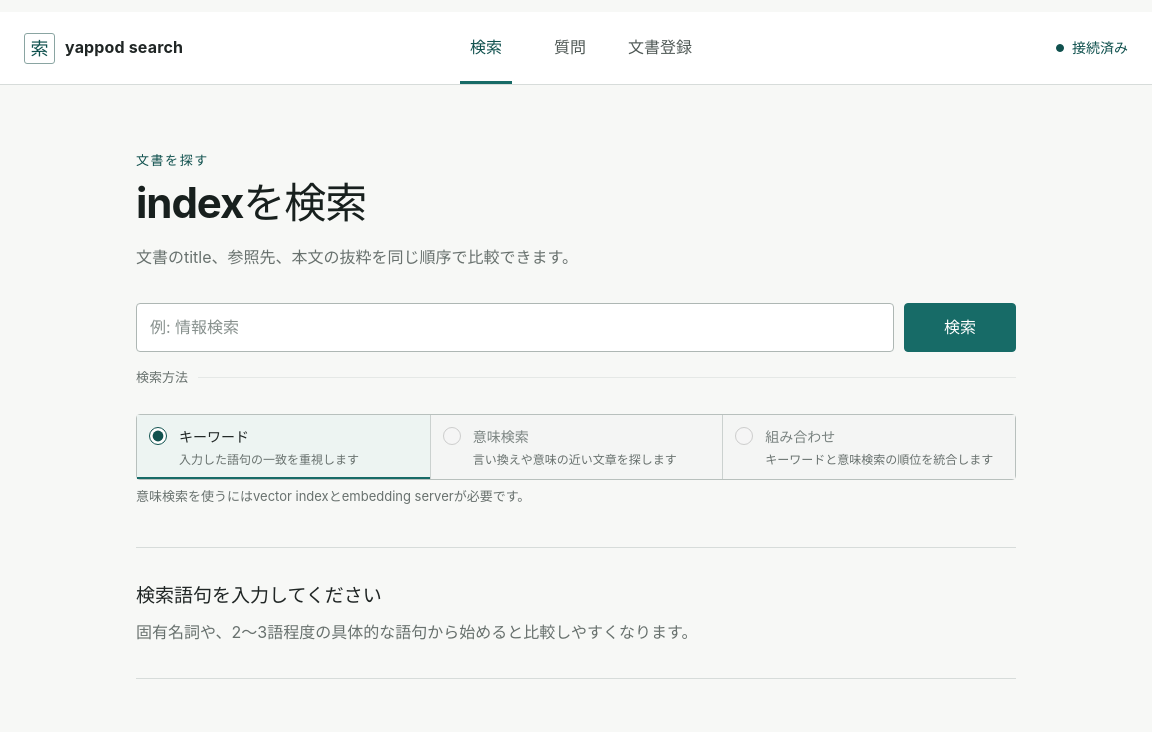
Test: yappod search UI › shows a local-files path as text when the document has no URL
The image size is (1152, 732).
Step 1. Type "makeindex" into the search field named "検索語句" → (515, 328), box [136,303,894,352]
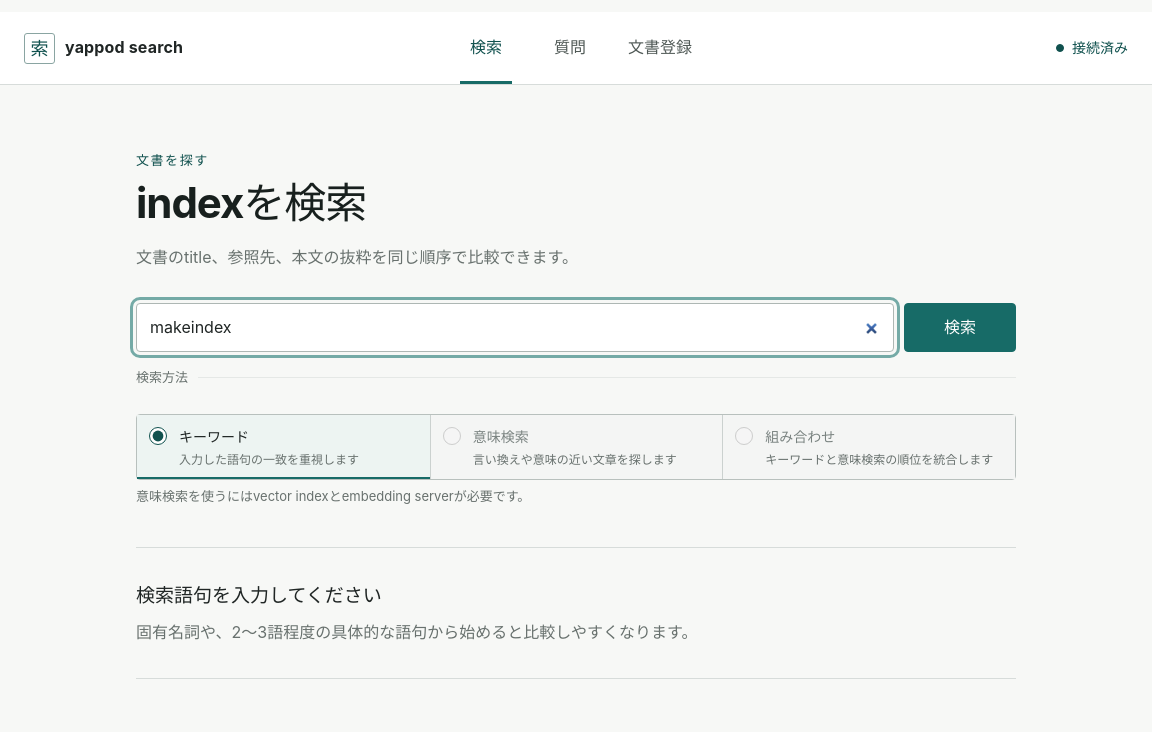
Step 2. Click the button with aria-label "検索を実行" → (960, 328), box [904,303,1016,352]
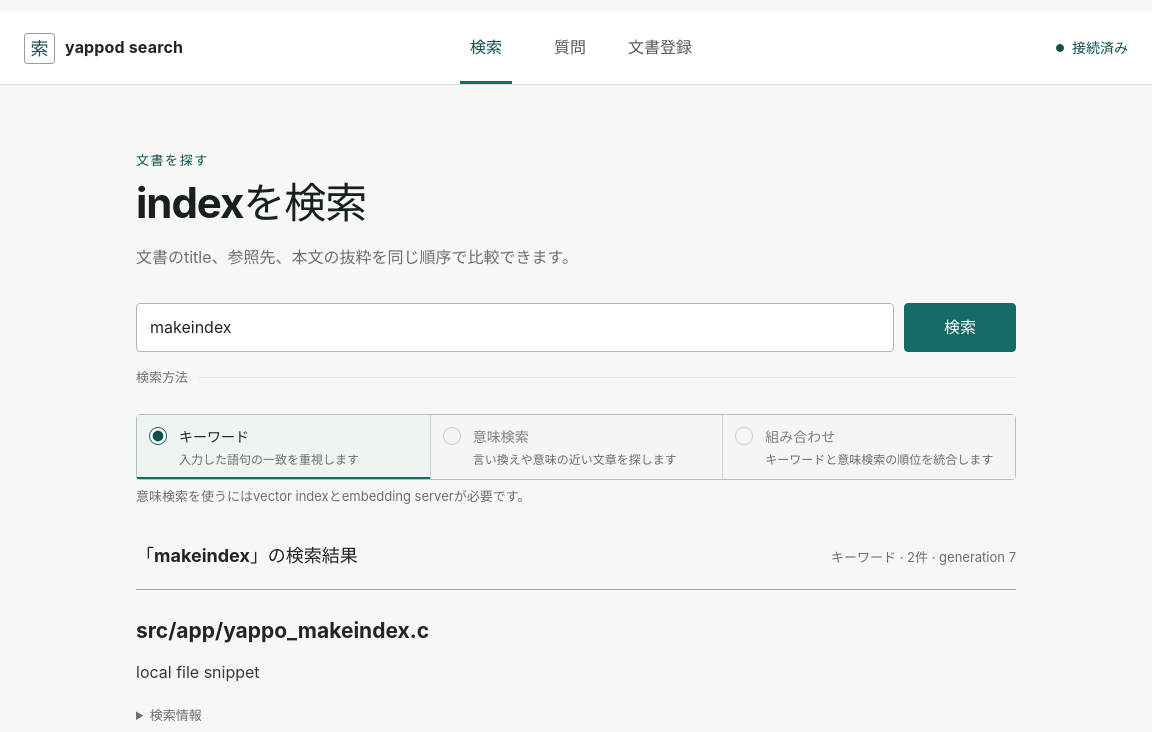
Expected: the heading "src/app/yappo_makeindex.c" is shown, [136,618,429,643]
